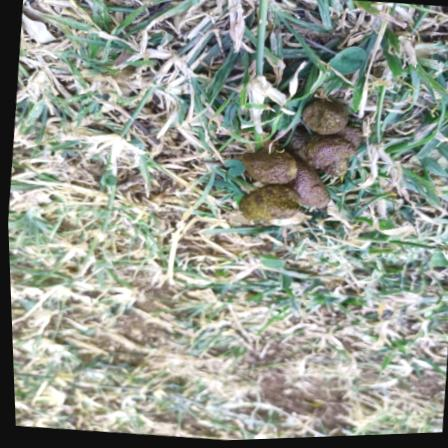dog-poop: (209, 76, 382, 245)
